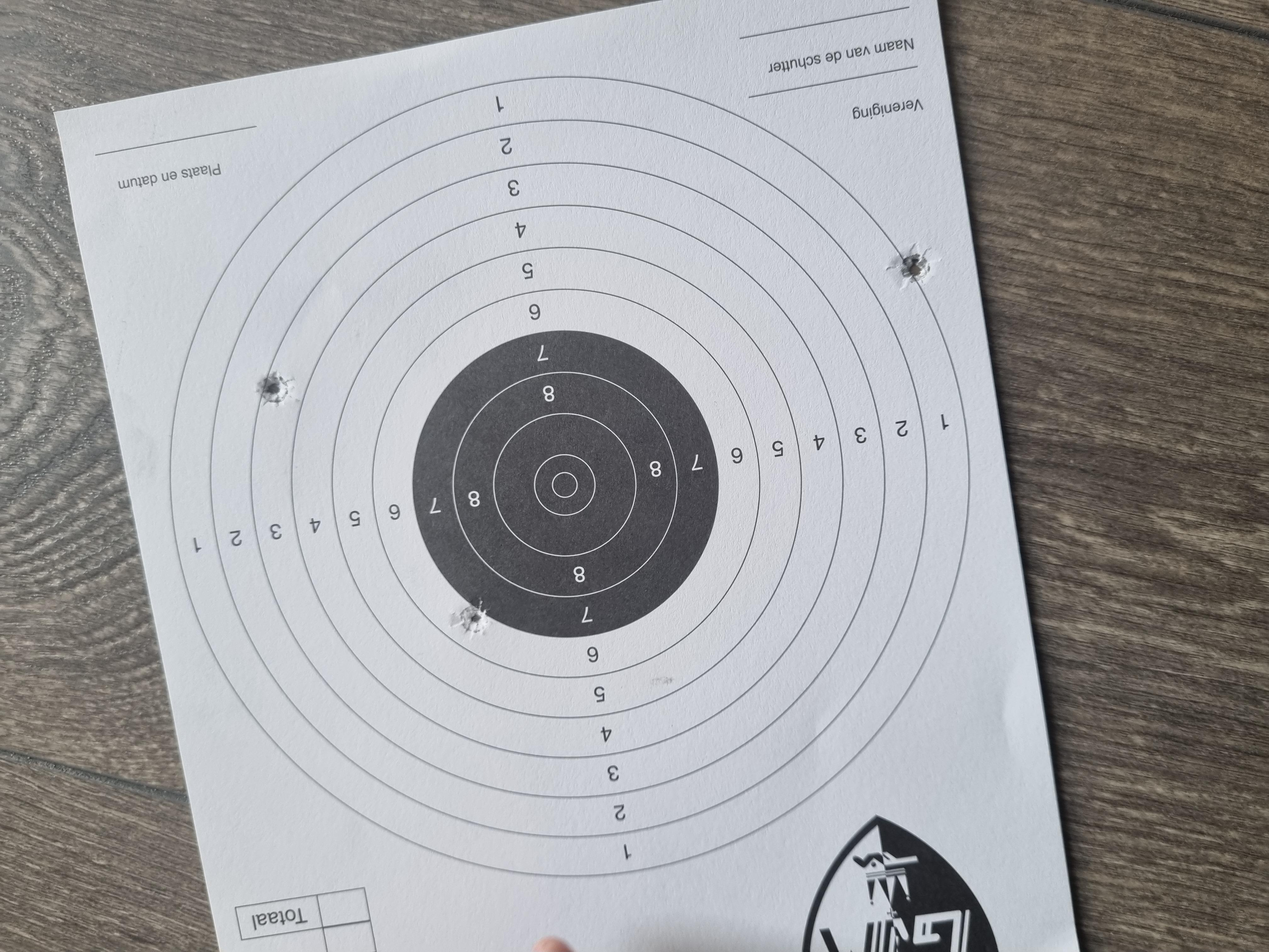hole: (885, 670, 942, 700), (728, 192, 774, 220), (425, 346, 471, 367)
